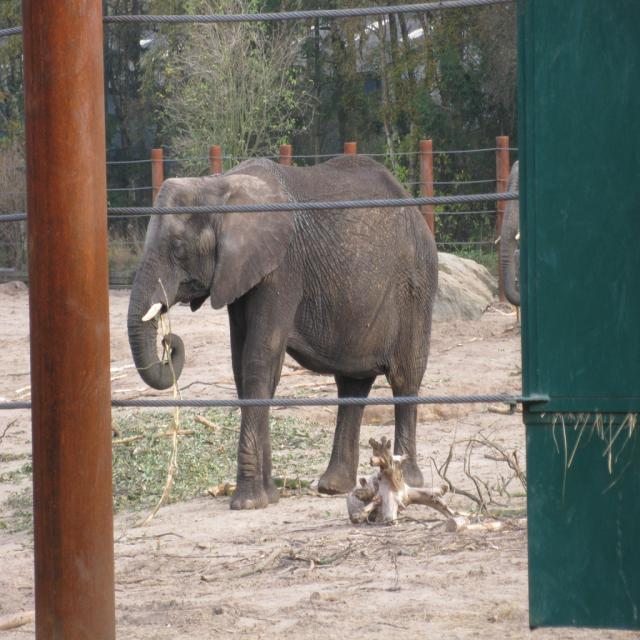Elephant: (126, 152, 440, 510), (500, 158, 520, 324)
